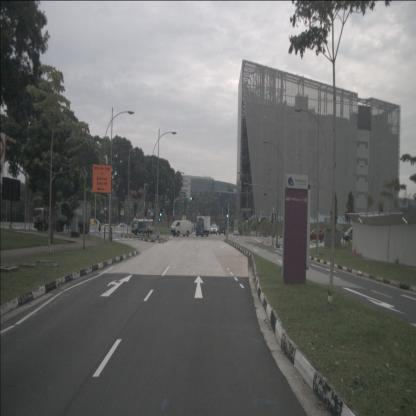cone: (352, 242, 356, 254), (157, 234, 160, 241)
